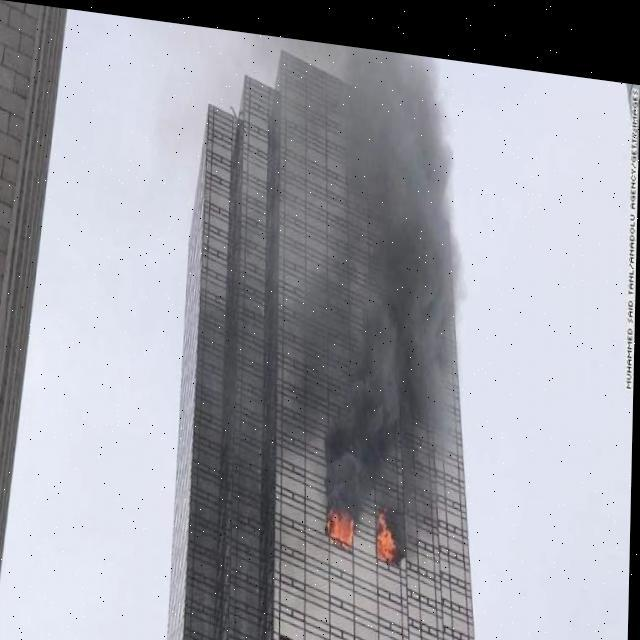Fire: (328, 487, 358, 541), (377, 496, 404, 556)
